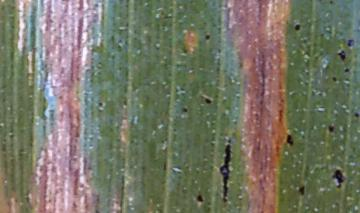tarspot: (219, 137, 233, 203), (330, 169, 346, 189), (336, 48, 347, 63), (285, 133, 295, 146), (326, 123, 336, 134), (297, 184, 306, 196), (346, 38, 356, 48), (293, 23, 302, 32), (204, 96, 213, 105), (195, 193, 203, 203), (342, 66, 351, 74), (204, 33, 211, 41), (353, 110, 359, 119), (330, 76, 337, 83), (97, 101, 104, 106), (182, 107, 188, 112), (328, 1, 334, 6)
